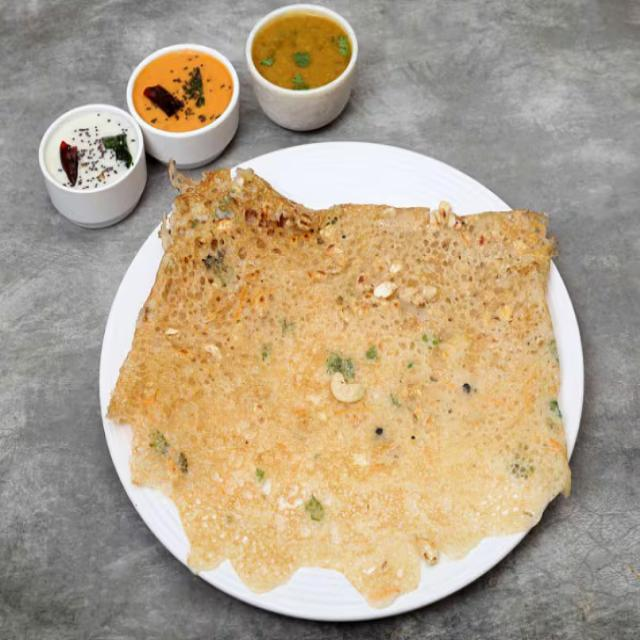DOSA: (108, 165, 570, 574)
RED CHUTNEY: (135, 49, 230, 123)
SAMBAR: (257, 17, 345, 82)
WHITE CHUTNEY: (54, 113, 131, 181)
